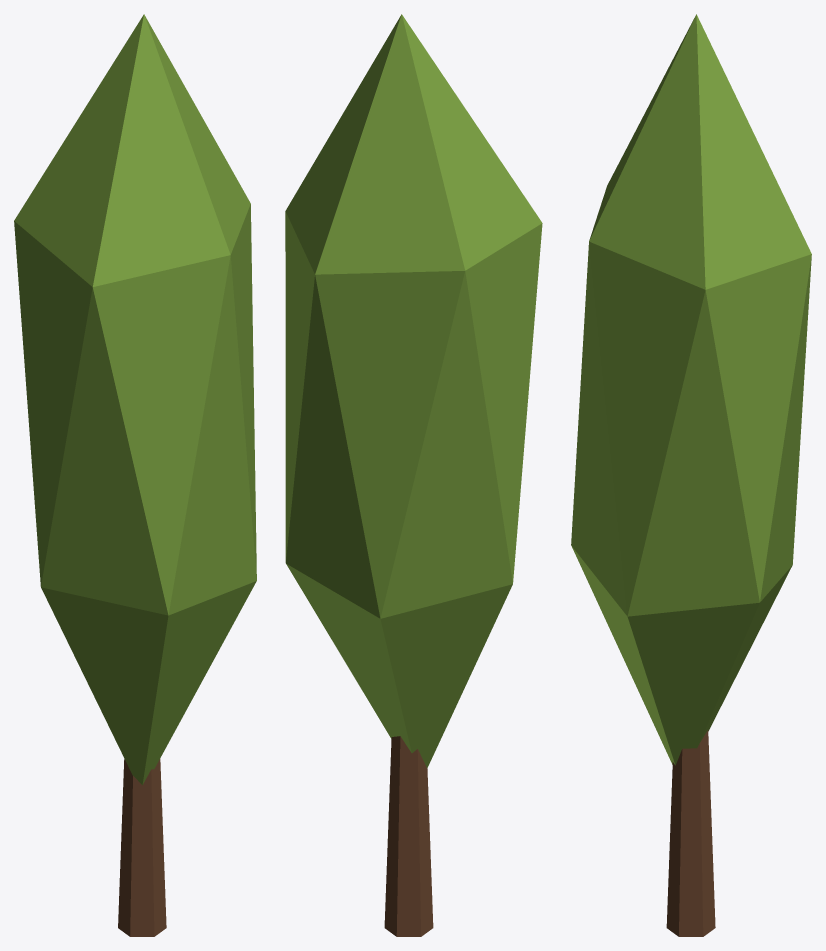
File: Poplar_A.glb
3 renders of one model, left to right at view 1: azimuth 30°, elevation 25°; view 2: azimuth 150°, elevation 25°; view 3: azimuth 270°, elevation 25°, orthographic.
Parts seen in each view (by area): view 1: Poplar_A; view 2: Poplar_A; view 3: Poplar_A.
Boxes of the visible parts, x1,y1,x2,y2 form: Poplar_A: (14, 14, 256, 936); Poplar_A: (285, 14, 542, 936); Poplar_A: (571, 14, 811, 936).
Bounding box in the file's own units: 2.07 × 8.27 × 1.97.
